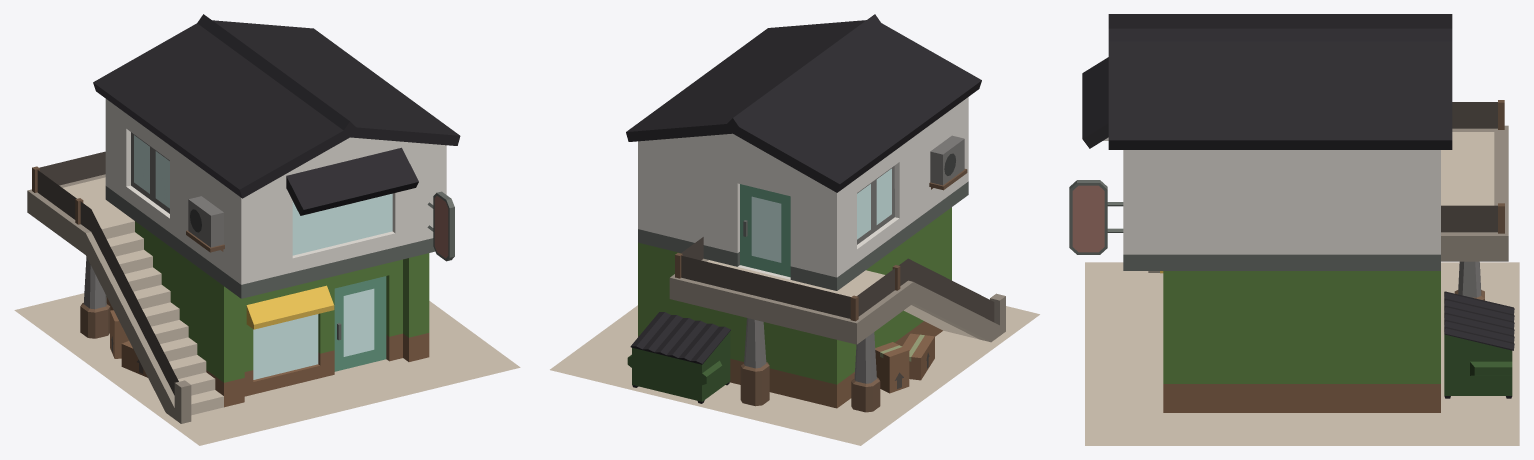
Rendered from ShopA.fbx.
3 renders of one model, left to right at view 1: azimuth 30°, elevation 25°; view 2: azimuth 150°, elevation 25°; view 3: azimuth 270°, elevation 25°, orthographic. The views are drawn at different scales.
Parts seen in each view (by area): view 1: shop; view 2: shop; view 3: shop.
Boxes of the visible parts, x1=… form: shop: x1=14, y1=14, x2=520, y2=445; shop: x1=550, y1=14, x2=1039, y2=445; shop: x1=1069, y1=14, x2=1519, y2=445.
Size of the model in its own units: 100 by 83.04 by 104.
